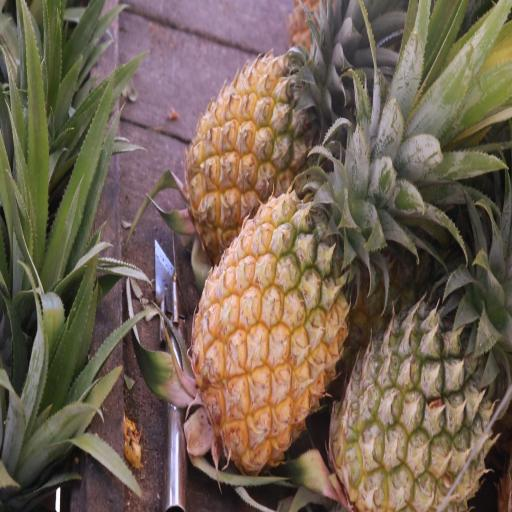Pineapple - v8 v1: (184, 150, 355, 465), (180, 10, 347, 282)
